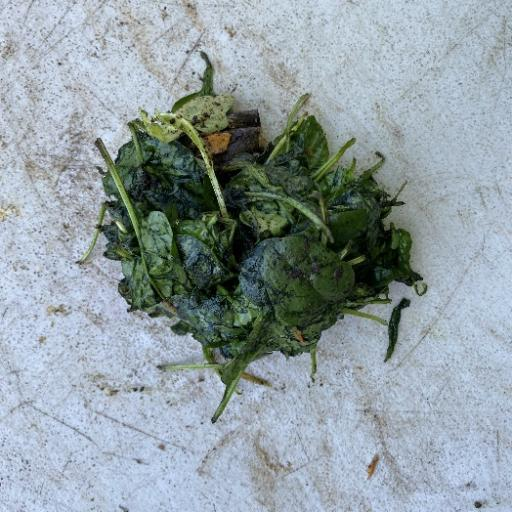Waste: (75, 50, 428, 424)
